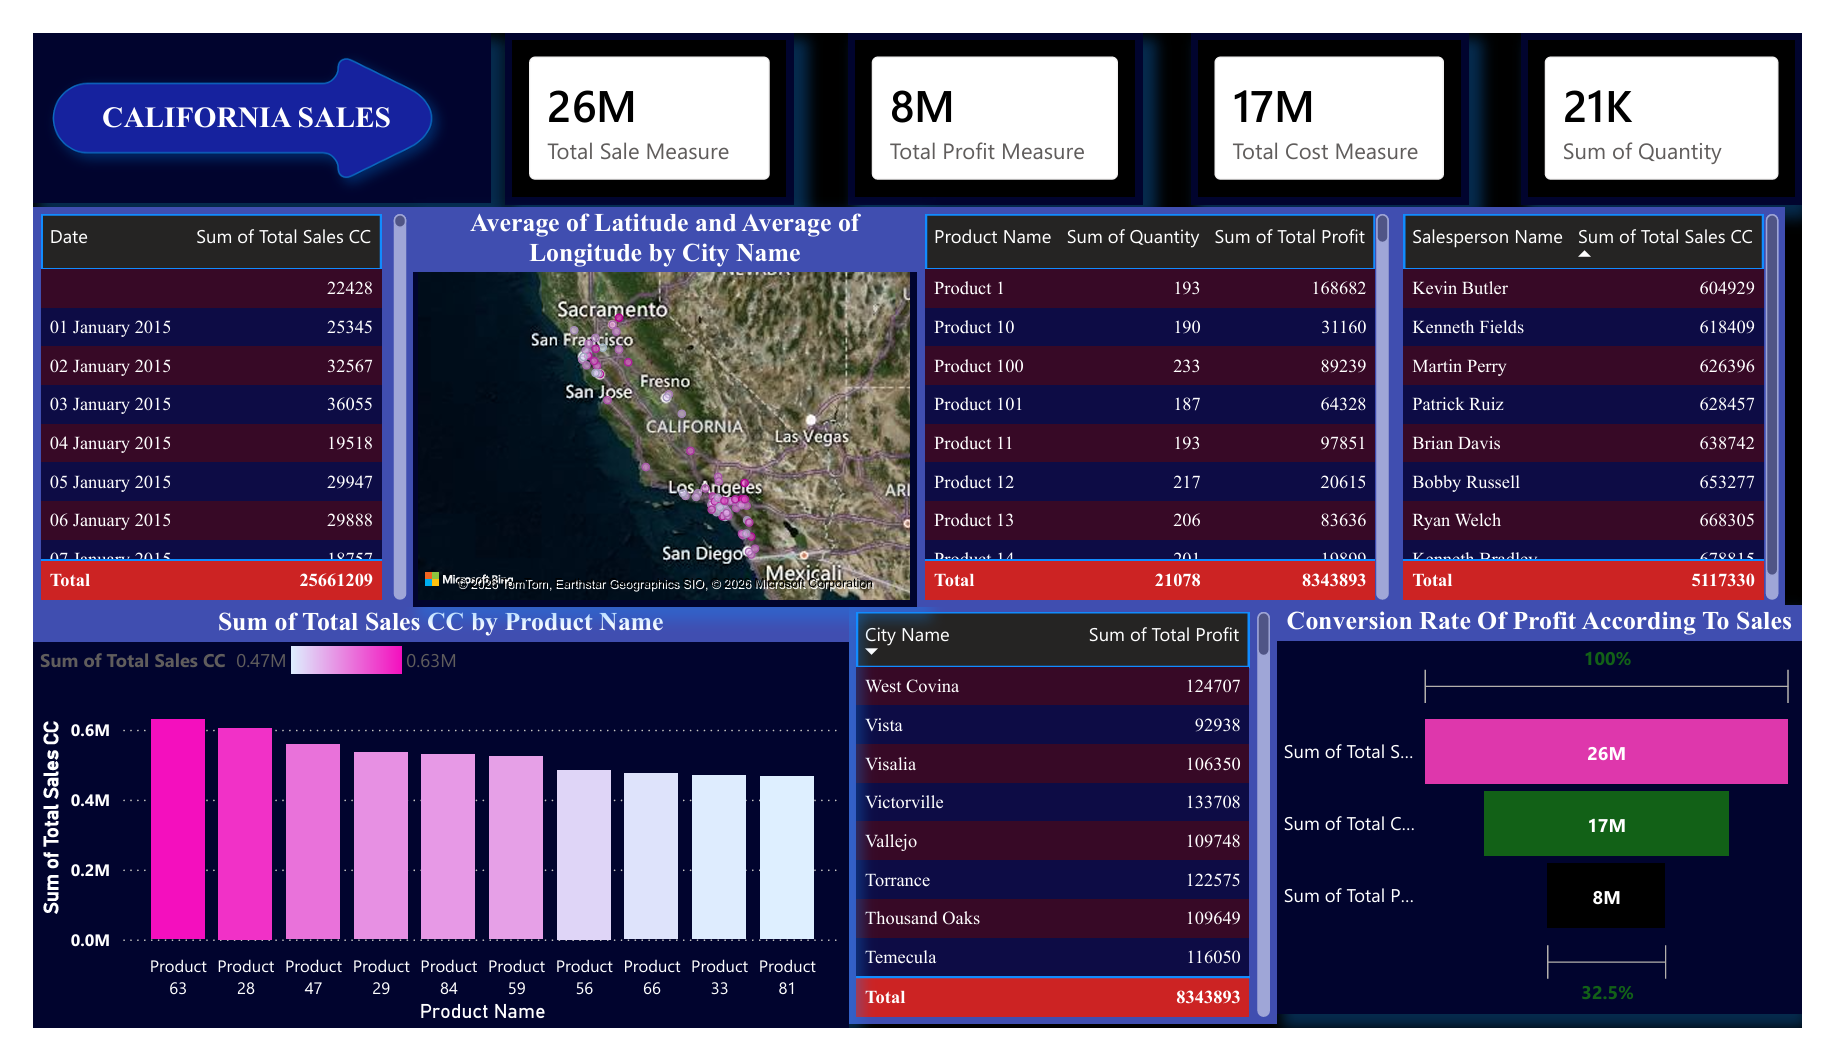

This screenshot's page, from the dashboard's own definition file:
{"tool":"powerbi","page":{"name":"DASHBOARD","canvas":[1280,720],"ordinal":0},"visuals":[{"type":"funnel","title":"Conversion Rate Of Profit According To Sales","fields":{"Y":["Sum(Total Sale.Total Sales CC)","Sum(Total Sale.Total Cost Price)","Sum(Total Sale.Total Profit)"]},"box":[900.2,413.7,380,296.5],"z":0},{"type":"tableEx","fields":{"Values":["Location_Data.City Name","Sum(Total Sale.Total Profit)"]},"box":[590.3,413.7,310,303.2],"z":1000},{"type":"shape","box":[0,0,330.7,123.5],"z":2000},{"type":"columnChart","fields":{"Category":["Product_Data.Product Name"],"Y":["Sum(Total Sale.Total Sales CC)"]},"box":[0,415.1,590.3,305.9],"z":3000},{"type":"cardVisual","fields":{"Data":["Total Sale.Total Sale Measure"]},"box":[342.3,0,208.9,124],"z":4000},{"type":"cardVisual","fields":{"Data":["Total Sale.Total Profit Measure"]},"box":[590.3,0,212.9,124],"z":5000},{"type":"cardVisual","fields":{"Data":["Total Sale.Total Cost Measure"]},"box":[838.2,0,200.8,124],"z":6000},{"type":"cardVisual","fields":{"Data":["Sum(Total Sale.Quantity)"]},"box":[1076.8,0,203.5,124],"z":7000},{"type":"map","fields":{"Category":["Location_Data.City Name"],"Y":["Location_Data.Latitude"],"X":["Location_Data.Longitude"]},"box":[274.2,125.6,366,289.9],"z":8000},{"type":"tableEx","fields":{"Values":["Salespeople_Data.Salesperson Name","Sum(Total Sale.Total Sales CC)"]},"box":[986.1,126.1,281.6,288.6],"z":9000},{"type":"tableEx","fields":{"Values":["Date Detail.Date","Sum(Total Sale.Total Sales CC)"]},"box":[0,126.1,274.5,288.6],"z":10000},{"type":"tableEx","fields":{"Values":["Product_Data.Product Name","Sum(Total Sale.Quantity)","Sum(Total Sale.Total Profit)"]},"box":[640.1,125.6,345.4,289.9],"z":10001}]}

Visuals, with their boxes in screenshot pixels (x1, y1, x2, y2), scaled from the page's 1280x720 canvas onto the 1830x1057 screenshot:
"Conversion Rate Of Profit According To Sales" funnel: 1287, 607, 1829, 1043
tableEx - Location_Data.City Name x Sum(Total Sale.Total Profit): 844, 607, 1287, 1052
shape: 0, 0, 473, 181
columnChart - Product_Data.Product Name x Sum(Total Sale.Total Sales CC): 0, 609, 844, 1056
cardVisual - Total Sale.Total Sale Measure: 489, 0, 788, 182
cardVisual - Total Sale.Total Profit Measure: 844, 0, 1148, 182
cardVisual - Total Sale.Total Cost Measure: 1198, 0, 1485, 182
cardVisual - Sum(Total Sale.Quantity): 1539, 0, 1829, 182
map - Location_Data.City Name x Location_Data.Latitude: 392, 184, 915, 610
tableEx - Salespeople_Data.Salesperson Name x Sum(Total Sale.Total Sales CC): 1410, 185, 1812, 609
tableEx - Date Detail.Date x Sum(Total Sale.Total Sales CC): 0, 185, 392, 609
tableEx - Product_Data.Product Name x Sum(Total Sale.Quantity): 915, 184, 1409, 610
